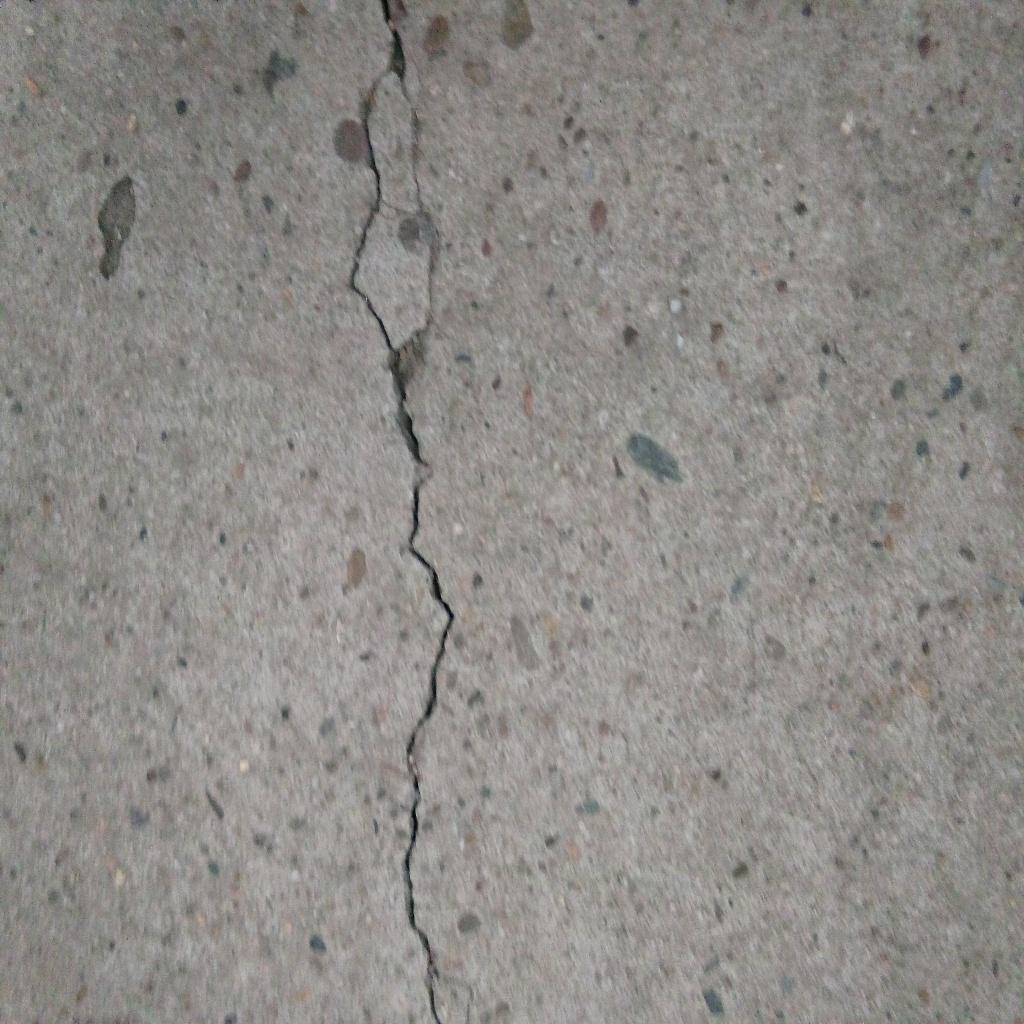Crack: (350, 1, 456, 1024)
Spalling: (96, 175, 138, 281)
